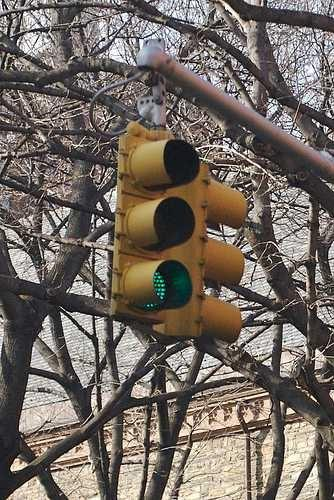green: (115, 126, 197, 322), (118, 255, 193, 316)
